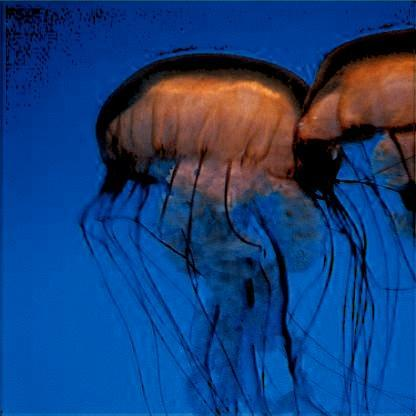Dressed: (101, 55, 329, 407), (289, 31, 416, 301)
